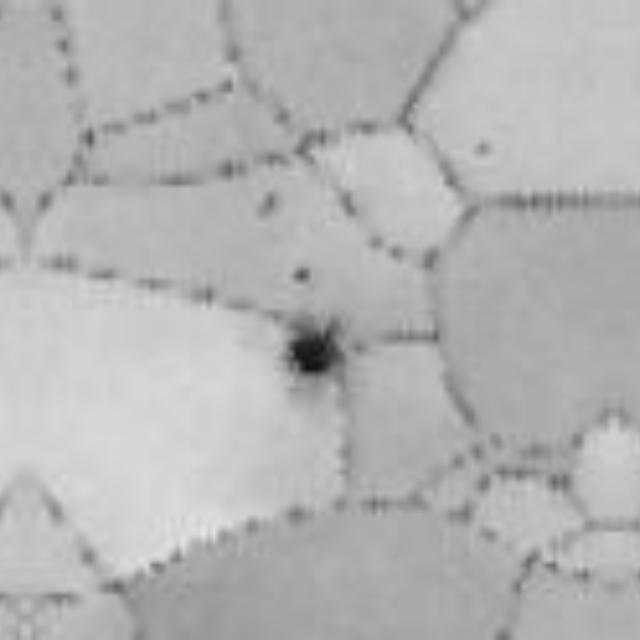good_void: (278, 328, 342, 382), (256, 190, 276, 223), (291, 264, 316, 290), (473, 143, 491, 160)
